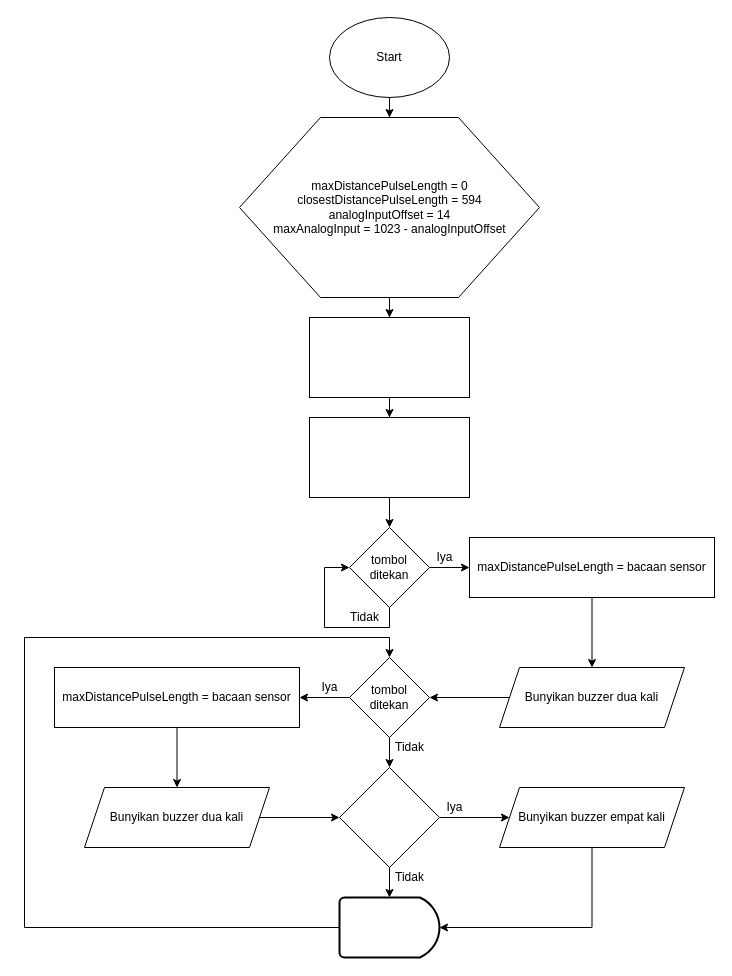
Image size: 732x976. Some labels were removed from this diagram. Each missing label, with the centre of its shape:
"500 milidetik" goes at (389,927).
"Inisialisasi pin buzzer dan trig menjadi output" goes at (389,457).
"Inisialisasi pin tombol, echo, dan kenop menjadi input" goes at (389,357).
"Jarak air dari sensor ≤ batas" goes at (389,817).
